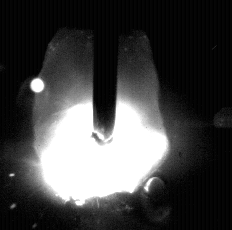arame: (93, 0, 117, 144)
poca: (34, 0, 170, 230)
